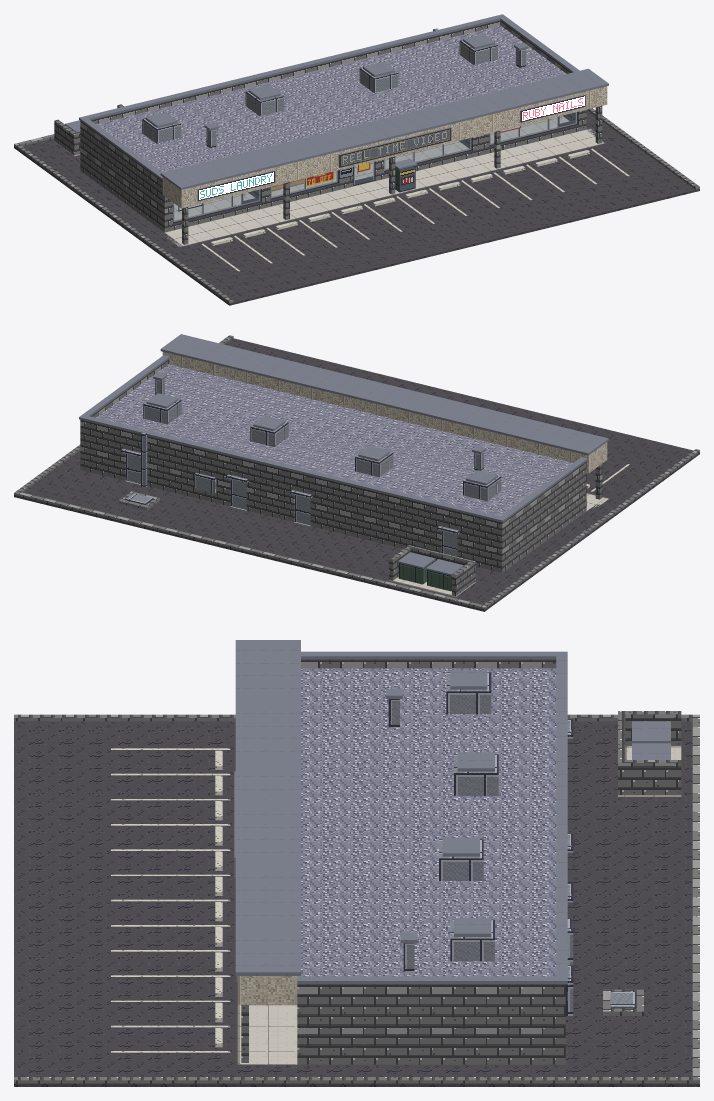
Rendered from reel-time-video-2011.glb.
3 renders of one model, top to bottom at view 1: azimuth 30°, elevation 25°; view 2: azimuth 150°, elevation 25°; view 3: azimuth 270°, elevation 25°, orthographic. The views are drawn at different scales.
Parts seen in each view (by area): view 1: structure, lot, parking_lot, rear_service, curb_props; view 2: structure, lot, rear_service; view 3: structure, lot, rear_service, parking_lot.
Part boxes in pixels (left/top/right/bottom): structure: left=79, top=14, right=608, bottom=244; lot: left=14, top=108, right=699, bottom=305; parking_lot: left=201, top=148, right=629, bottom=271; rear_service: left=54, top=28, right=438, bottom=156; curb_props: left=395, top=158, right=417, bottom=192; structure: left=79, top=334, right=608, bottom=572; lot: left=14, top=335, right=699, bottom=611; rear_service: left=118, top=433, right=475, bottom=596; structure: left=234, top=640, right=573, bottom=1064; lot: left=14, top=714, right=699, bottom=1086; rear_service: left=565, top=711, right=681, bottom=1015; parking_lot: left=111, top=748, right=230, bottom=1052.
Size of what is drawn, in the model's own units: 36.01 by 4.97 by 28.56.
Materials: 11 (11 with a texture image).
